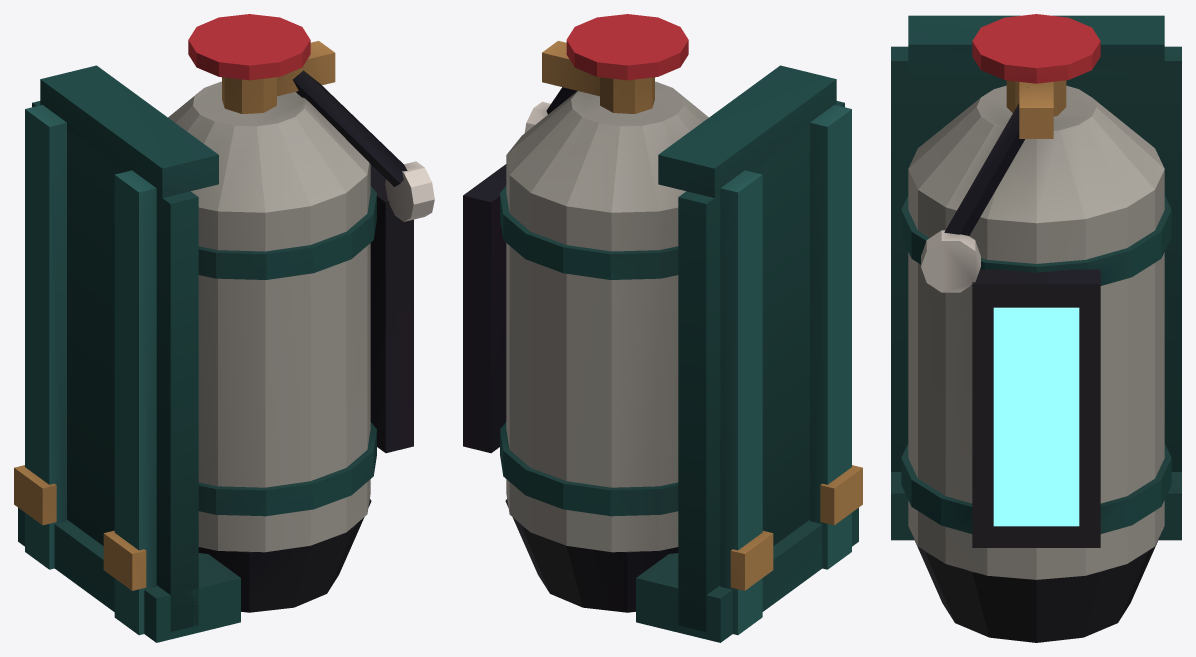
Rendered from prop.cure-canister.glb.
3 renders of one model, left to right at view 1: azimuth 30°, elevation 25°; view 2: azimuth 150°, elevation 25°; view 3: azimuth 270°, elevation 25°, orthographic. The views are drawn at different scales.
Parts seen in each view (by area): view 1: body; view 2: body; view 3: body.
Part boxes in pixels (left/top/right/bottom): body: left=14, top=14, right=434, bottom=642; body: left=463, top=14, right=862, bottom=642; body: left=891, top=14, right=1181, bottom=642.
Bounding box in the file's own units: 0.445 × 0.725 × 0.34.
